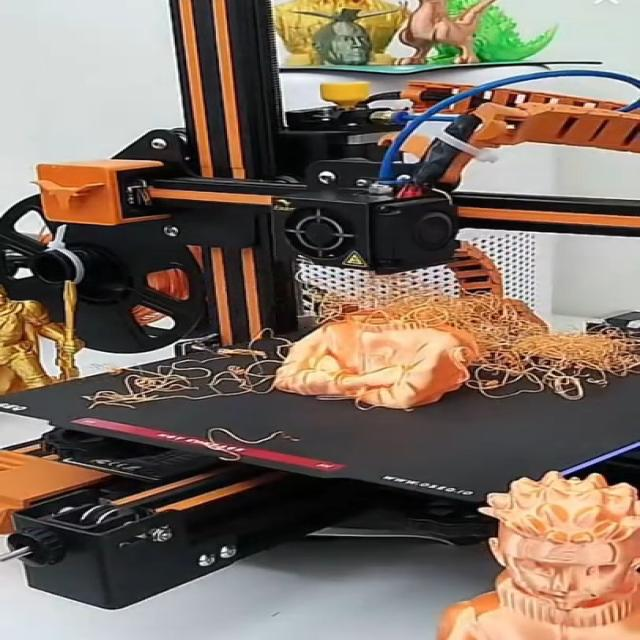spaghetti: (72, 268, 640, 414)
